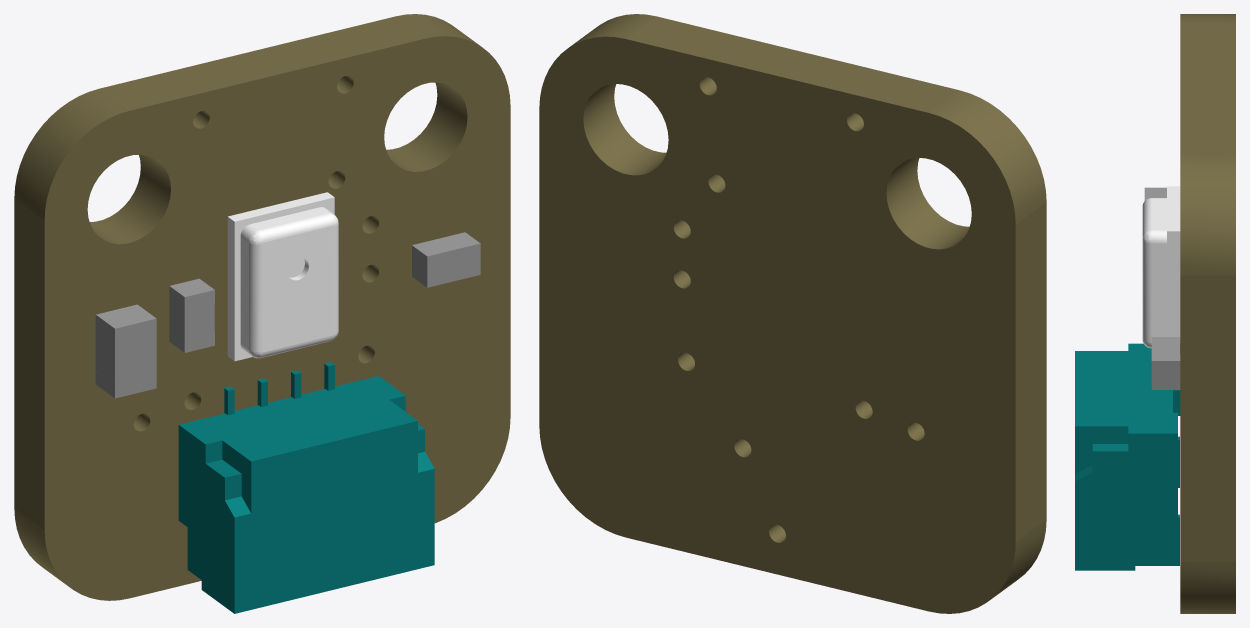
Rendered from PDM Mic with JST SH.glb.
The picture shows the model from 3 angles, left to right: view 1: azimuth 30°, elevation 25°; view 2: azimuth 150°, elevation 25°; view 3: azimuth 270°, elevation 25°; orthographic projection. The views are drawn at different scales.
Parts seen in each view (by area): view 1: Board, JST_SH4, PCB Component, 0603-NO (×2), 0805-NO; view 2: Board; view 3: Board, JST_SH4, PCB Component, 0603-NO, 0805-NO.
Part boxes in pixels (bbox=[...]): Board: bbox=[14, 14, 510, 600]; JST_SH4: bbox=[178, 362, 434, 613]; PCB Component: bbox=[227, 192, 338, 361]; 0603-NO (×2): bbox=[169, 232, 480, 352]; 0805-NO: bbox=[95, 304, 156, 398]; Board: bbox=[539, 14, 1046, 613]; Board: bbox=[1180, 14, 1235, 613]; JST_SH4: bbox=[1075, 343, 1180, 570]; PCB Component: bbox=[1142, 186, 1180, 348]; 0603-NO: bbox=[1151, 337, 1180, 389]; 0805-NO: bbox=[1144, 187, 1166, 200].
Bounding box in the file's own units: 13.97 × 13.97 × 4.53.
